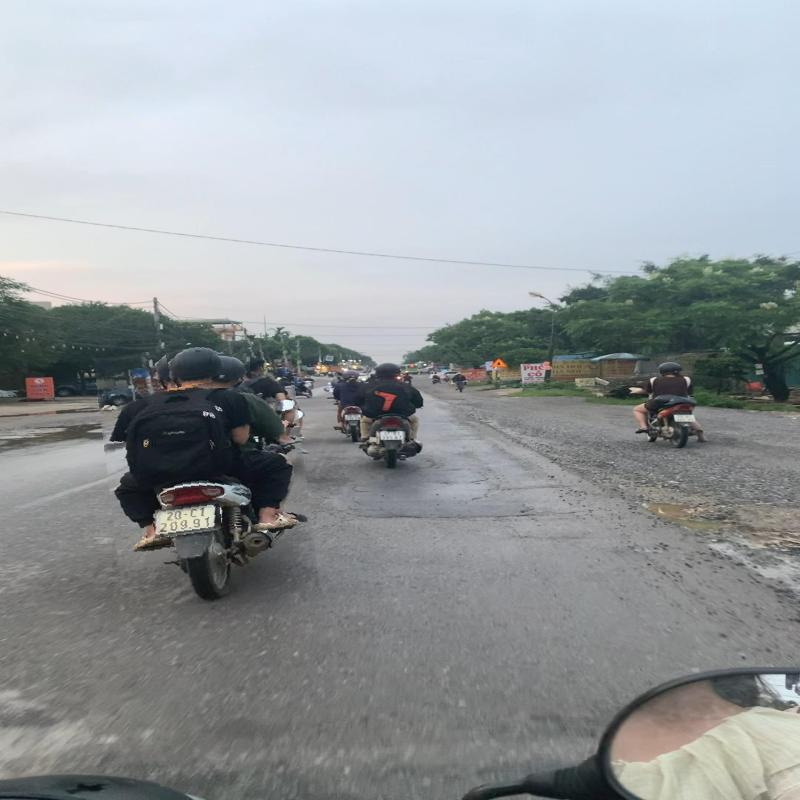helmet: (166, 343, 226, 386), (213, 353, 251, 388)
licenseplate: (153, 504, 222, 536)
motorcyclist: (101, 340, 312, 608)
